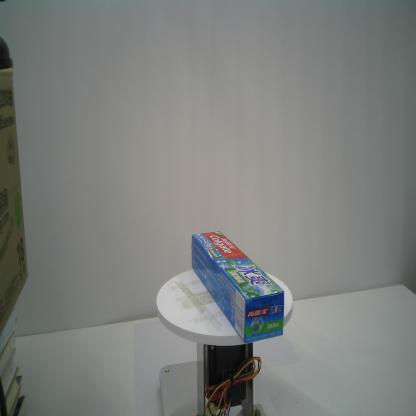Personal Hygiene: (190, 229, 284, 345)
